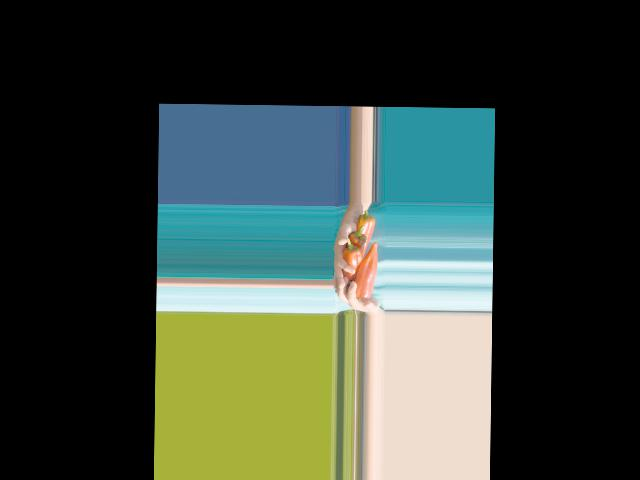bell_pepper: (354, 209, 375, 247)
